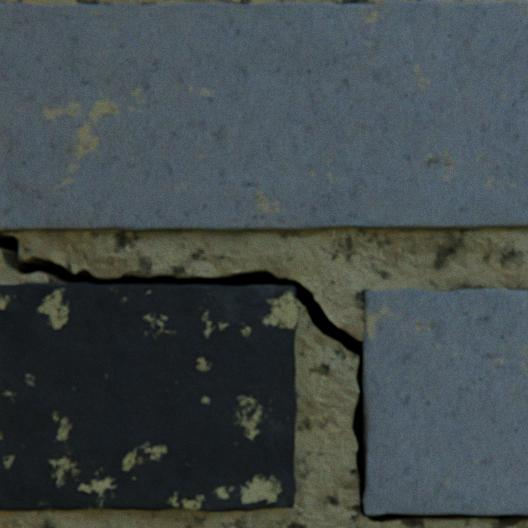brick: (0, 2, 527, 232), (0, 283, 298, 510), (363, 289, 527, 514)
crack: (0, 232, 527, 526)
